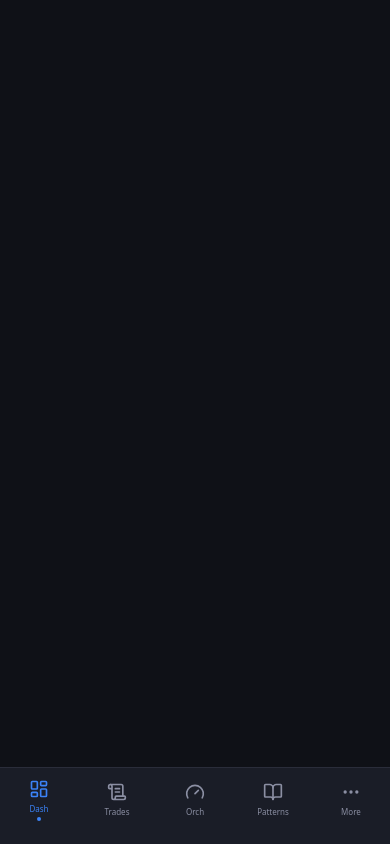
Test: MobileNav › opens MoreSheet when More tab is clicked
Check: the text "Performance" is not shown
# Click the More button
What coordinates should you click on to do the following:
click the button "More"
I would click on:
 (351, 800)
Its box is left=312, top=768, right=389, bottom=832.
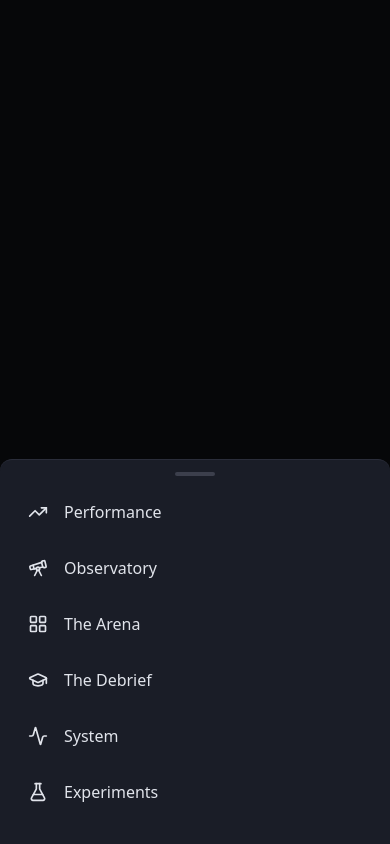
Check: the text "Performance" is shown, box left=64, top=500, right=162, bottom=524
Check: the text "The Debrief" is shown, box left=64, top=668, right=152, bottom=692
Check: the text "System" is shown, box left=64, top=724, right=118, bottom=748
